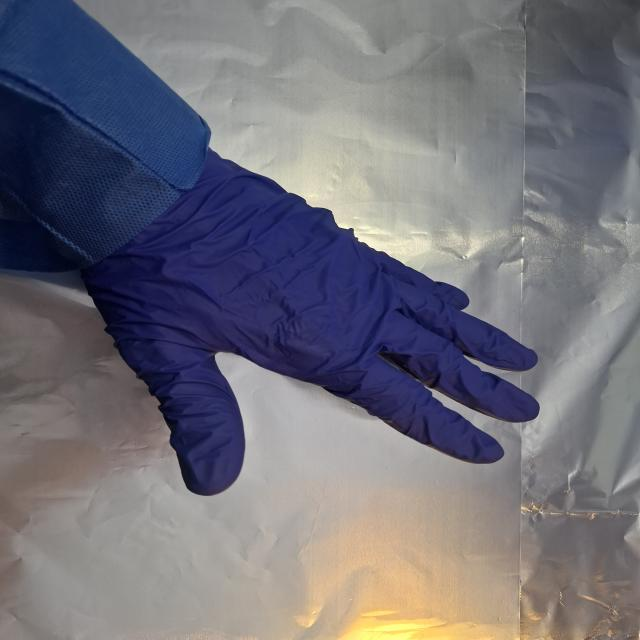glove_on: (72, 156, 544, 500)
